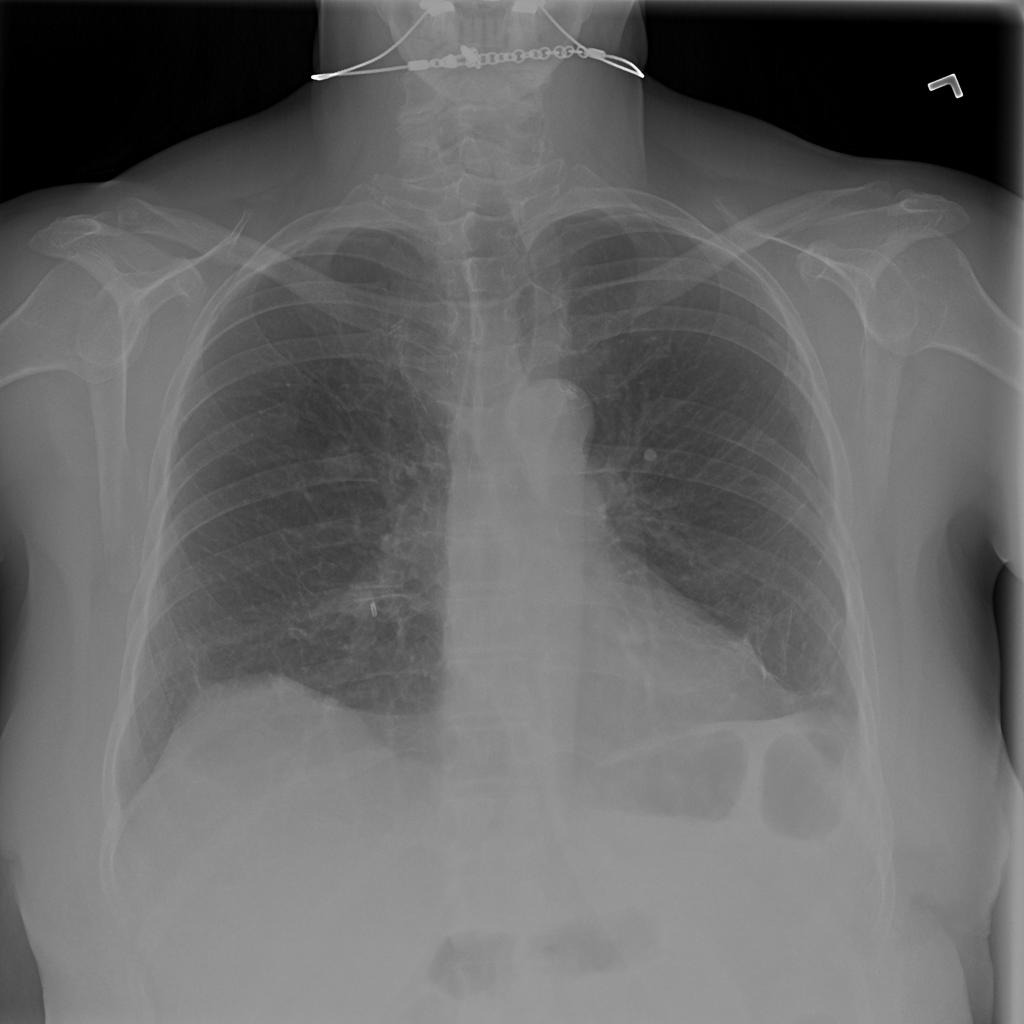nodule: (304, 425, 379, 493), (635, 437, 671, 473)
